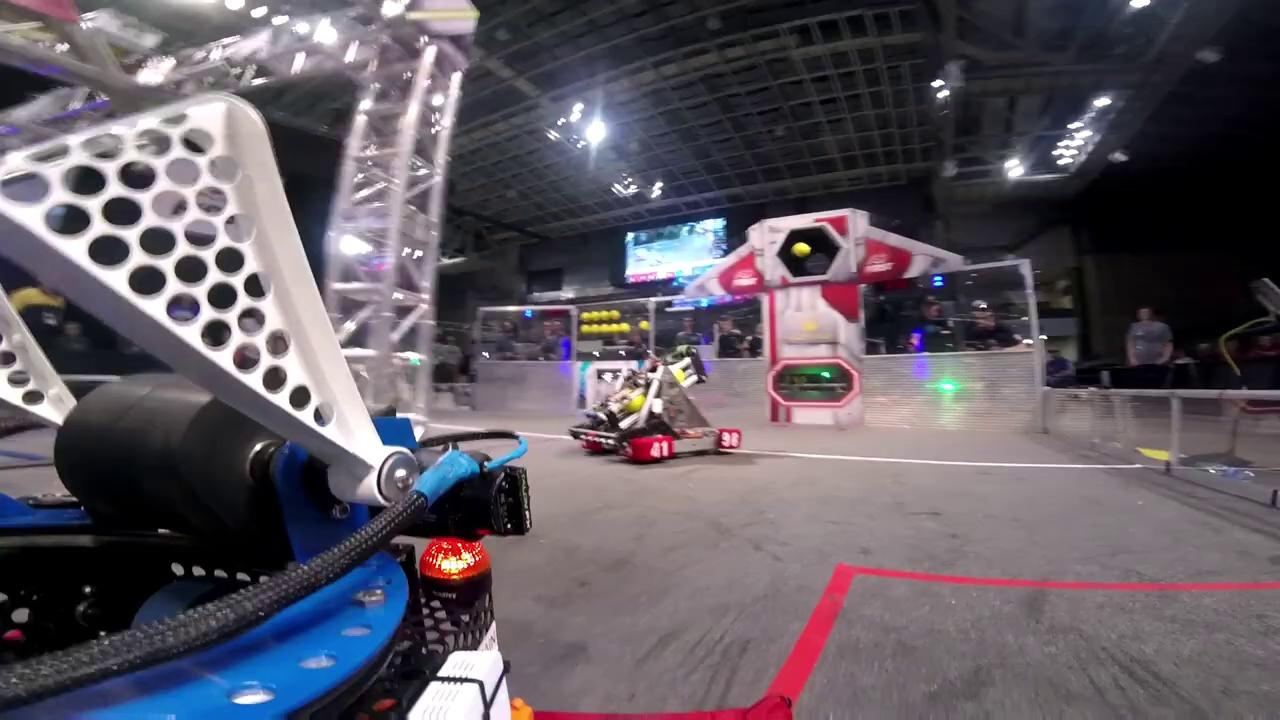robot: (569, 344, 743, 465)
